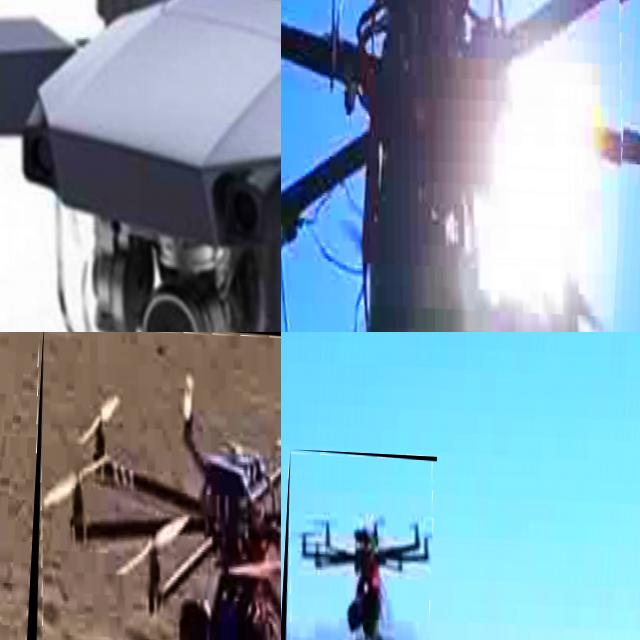0: (281, 0, 635, 332), (21, 332, 281, 640), (281, 449, 437, 640)
drone: (0, 0, 281, 332)
